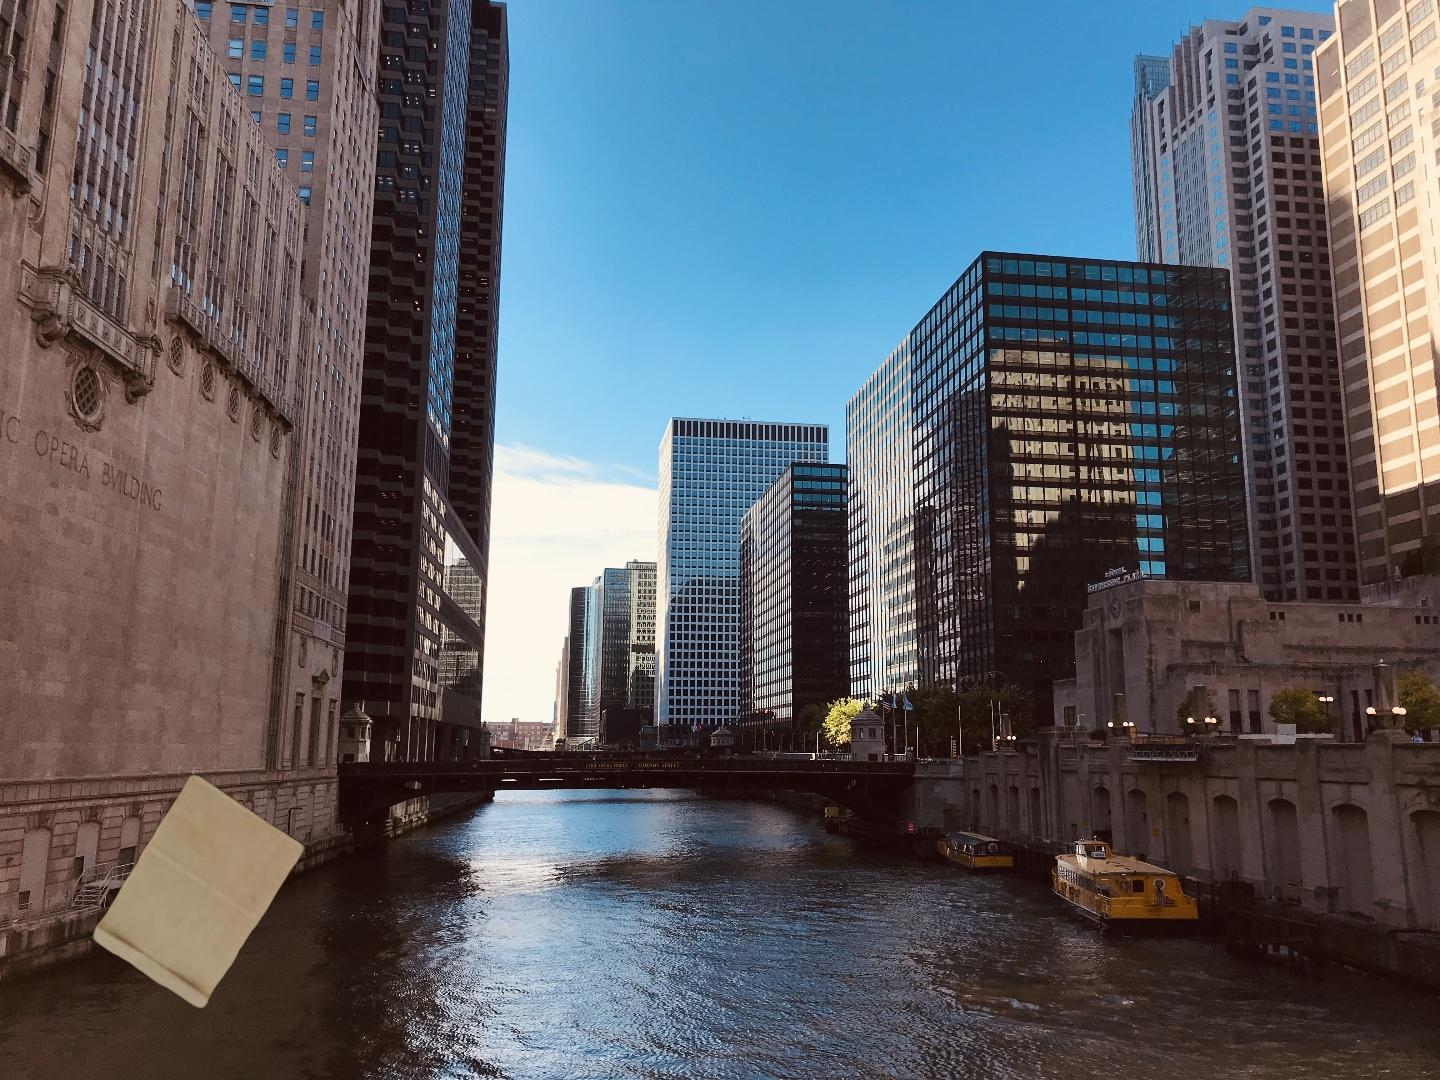paper-bag: (88, 771, 308, 1012)
